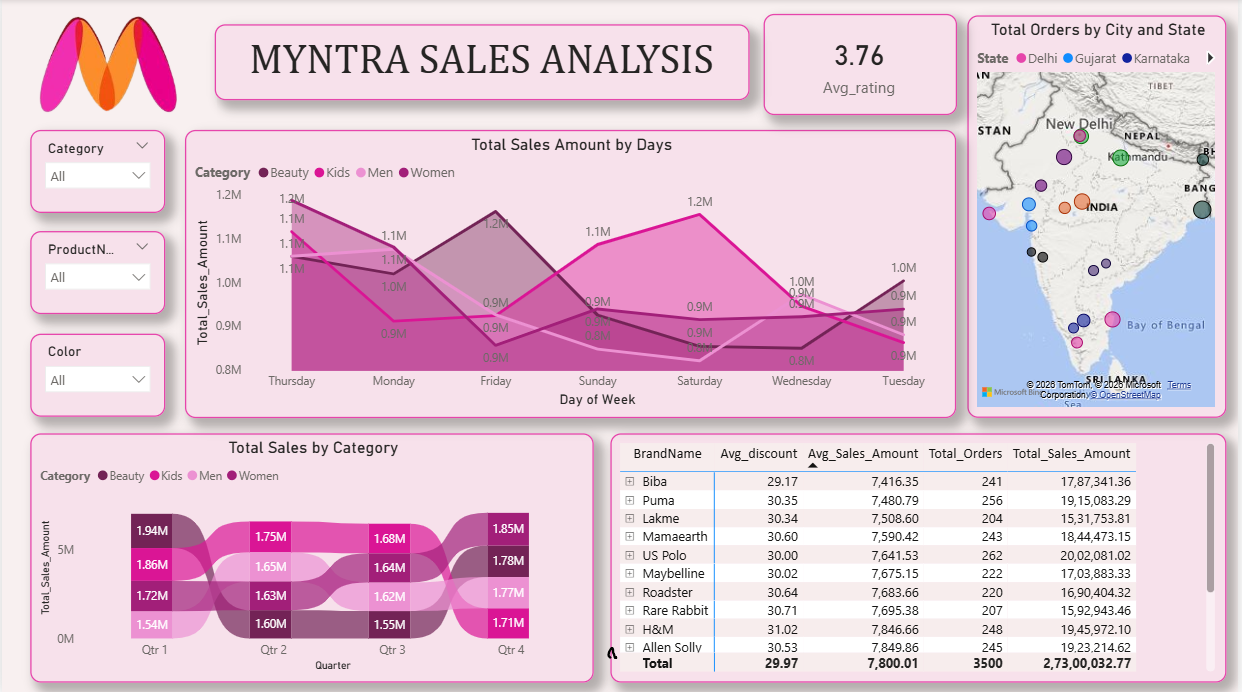

This screenshot's page, from the dashboard's own definition file:
{"tool":"powerbi","page":{"name":"Page 2","canvas":[1280,720],"ordinal":1},"visuals":[{"type":"map","title":"Total Orders by City and State","fields":{"Category":["DimCustomer.City"],"Series":["DimCustomer.State"],"Size":["'Measures'.Total_Orders"]},"box":[1000,16.7,268.3,416.7],"z":0},{"type":"slicer","fields":{"Values":["DimProduct.Category"]},"box":[30,135,140,86],"z":1000},{"type":"slicer","fields":{"Values":["DimProduct.ProductName"]},"box":[30,240,140,86],"z":2000},{"type":"slicer","fields":{"Values":["DimProduct.Color"]},"box":[30,346.7,140,86],"z":3000},{"type":"areaChart","title":"Total Sales Amount by Days","fields":{"Y":["'Measures'.Total_Sales_Amount"],"Series":["DimProduct.Category"],"Category":["DateTable.Day of Week"]},"box":[190,135,798.3,298.3],"z":4000},{"type":"ribbonChart","title":"Total Sales by Category","fields":{"Category":["DateTable.Date.Variation.Date Hierarchy.Year","DateTable.Date.Variation.Date Hierarchy.Quarter","DateTable.Date.Variation.Date Hierarchy.Month","DateTable.Date.Variation.Date Hierarchy.Day"],"Y":["'Measures'.Total_Sales_Amount"],"Series":["DimProduct.Category"]},"box":[29.6,450,583.7,258.2],"z":5000},{"type":"pivotTable","fields":{"Rows":["DimProduct.BrandName","DimProduct.ProductName"],"Values":["'Measures'.Avg_discount","'Measures'.Avg_Sales_Amount","'Measures'.Total_Orders","'Measures'.Total_Sales_Amount"]},"box":[630.6,450,637.8,258.2],"z":6000},{"type":"card","fields":{"Values":["'Measures'.Avg_rating"]},"box":[788.3,15,200,105],"z":7000},{"type":"textbox","box":[219.7,26.3,553.9,78.9],"z":8000},{"type":"image","box":[0,0,219.7,135.5],"z":9000}]}

Visuals, with their boxes in screenshot pixels (x1, y1, x2, y2), scaled from the page's 1280x720 canvas onto the 1242x692 screenshot:
"Total Orders by City and State" map: 970 16 1231 417
slicer - DimProduct.Category: 29 130 165 212
slicer - DimProduct.ProductName: 29 231 165 313
slicer - DimProduct.Color: 29 333 165 416
"Total Sales Amount by Days" areaChart: 184 130 959 416
"Total Sales by Category" ribbonChart: 29 432 595 681
pivotTable - DimProduct.BrandName x DimProduct.ProductName: 612 432 1231 681
card - 'Measures'.Avg_rating: 765 14 959 115
textbox: 213 25 751 101
image: 0 0 213 130
